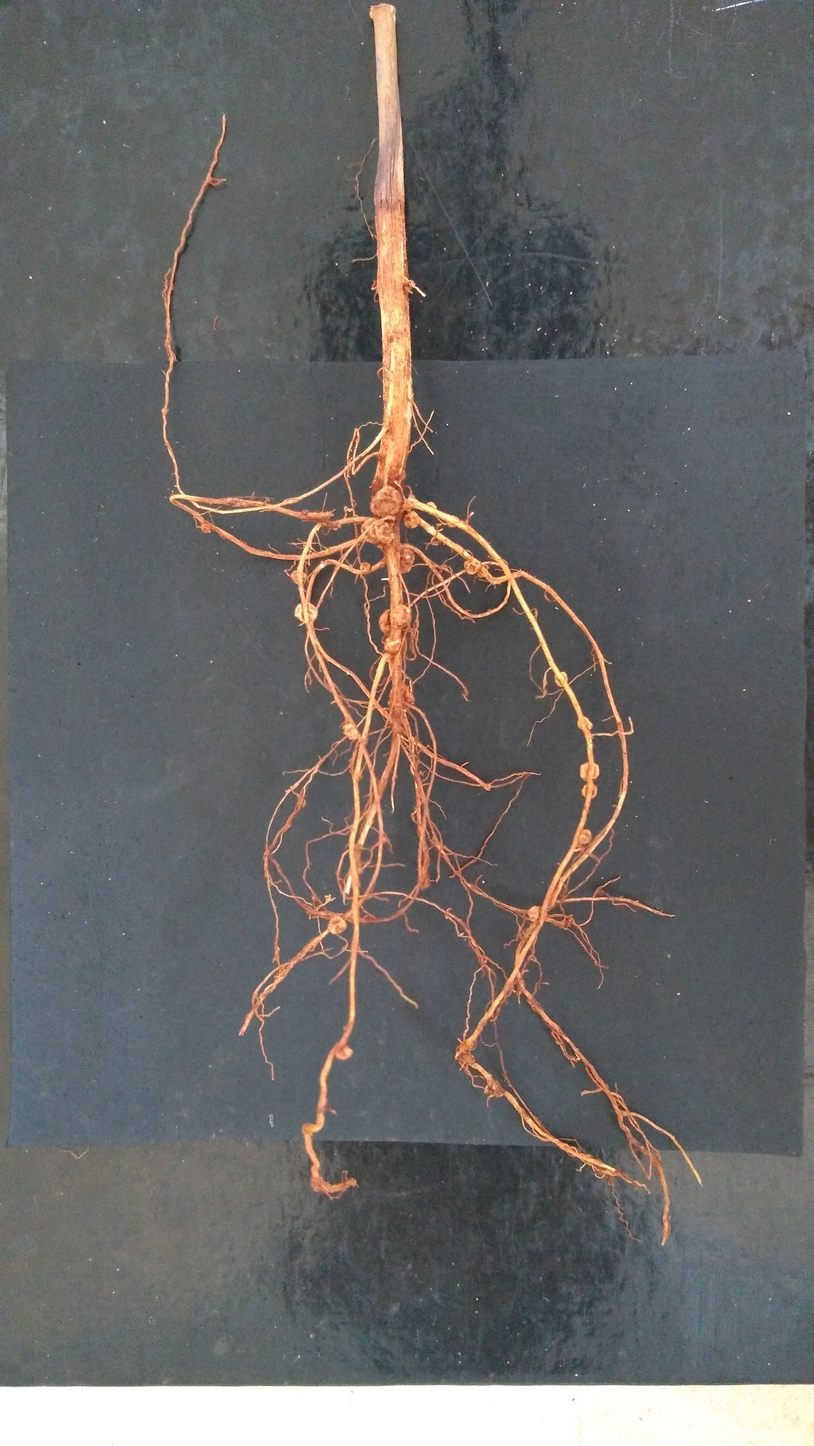nodule: (370, 485, 402, 518), (389, 684, 415, 712), (361, 518, 381, 544), (389, 605, 410, 628), (294, 602, 318, 622), (375, 521, 396, 543), (400, 548, 415, 574), (580, 761, 599, 781), (379, 609, 392, 636), (328, 917, 347, 934), (383, 637, 402, 653), (463, 559, 481, 575), (404, 511, 420, 528), (336, 1045, 353, 1060), (343, 723, 358, 740), (581, 783, 597, 798), (291, 570, 307, 584), (577, 717, 593, 730), (528, 905, 540, 922), (555, 672, 568, 687), (578, 829, 591, 844), (447, 515, 460, 528), (426, 501, 437, 515), (477, 565, 488, 578), (359, 562, 370, 572), (200, 524, 211, 533), (324, 894, 331, 903)
